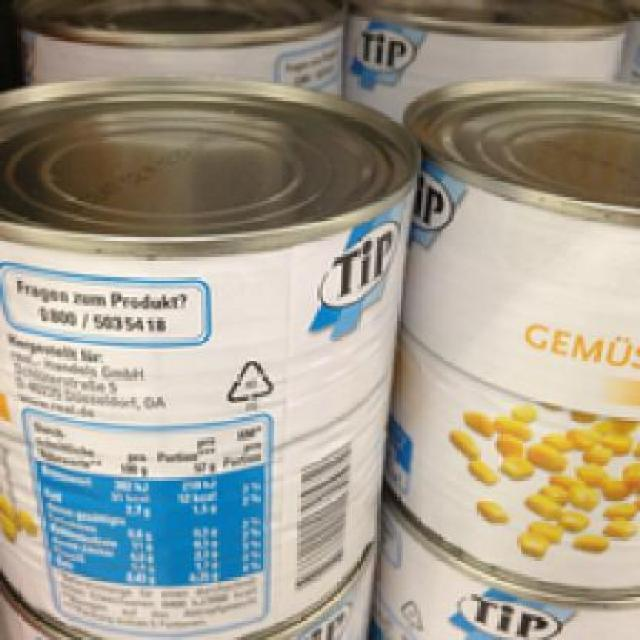Corn: (0, 74, 420, 637), (380, 70, 637, 586)
